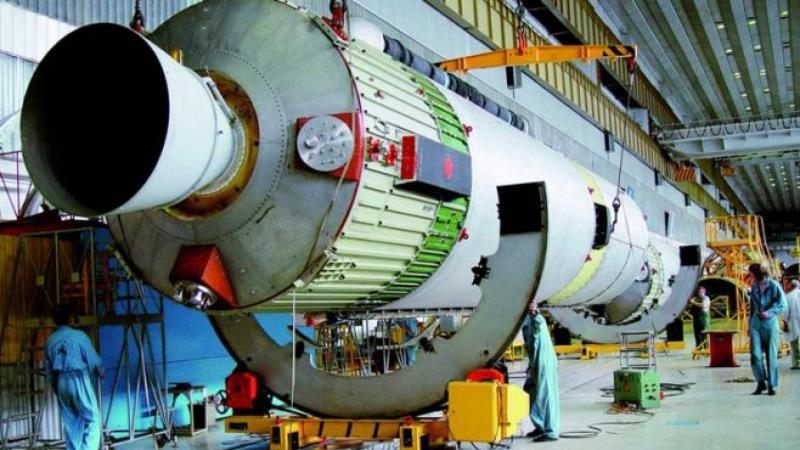body: (99, 0, 653, 313)
thruster: (18, 19, 234, 220)
